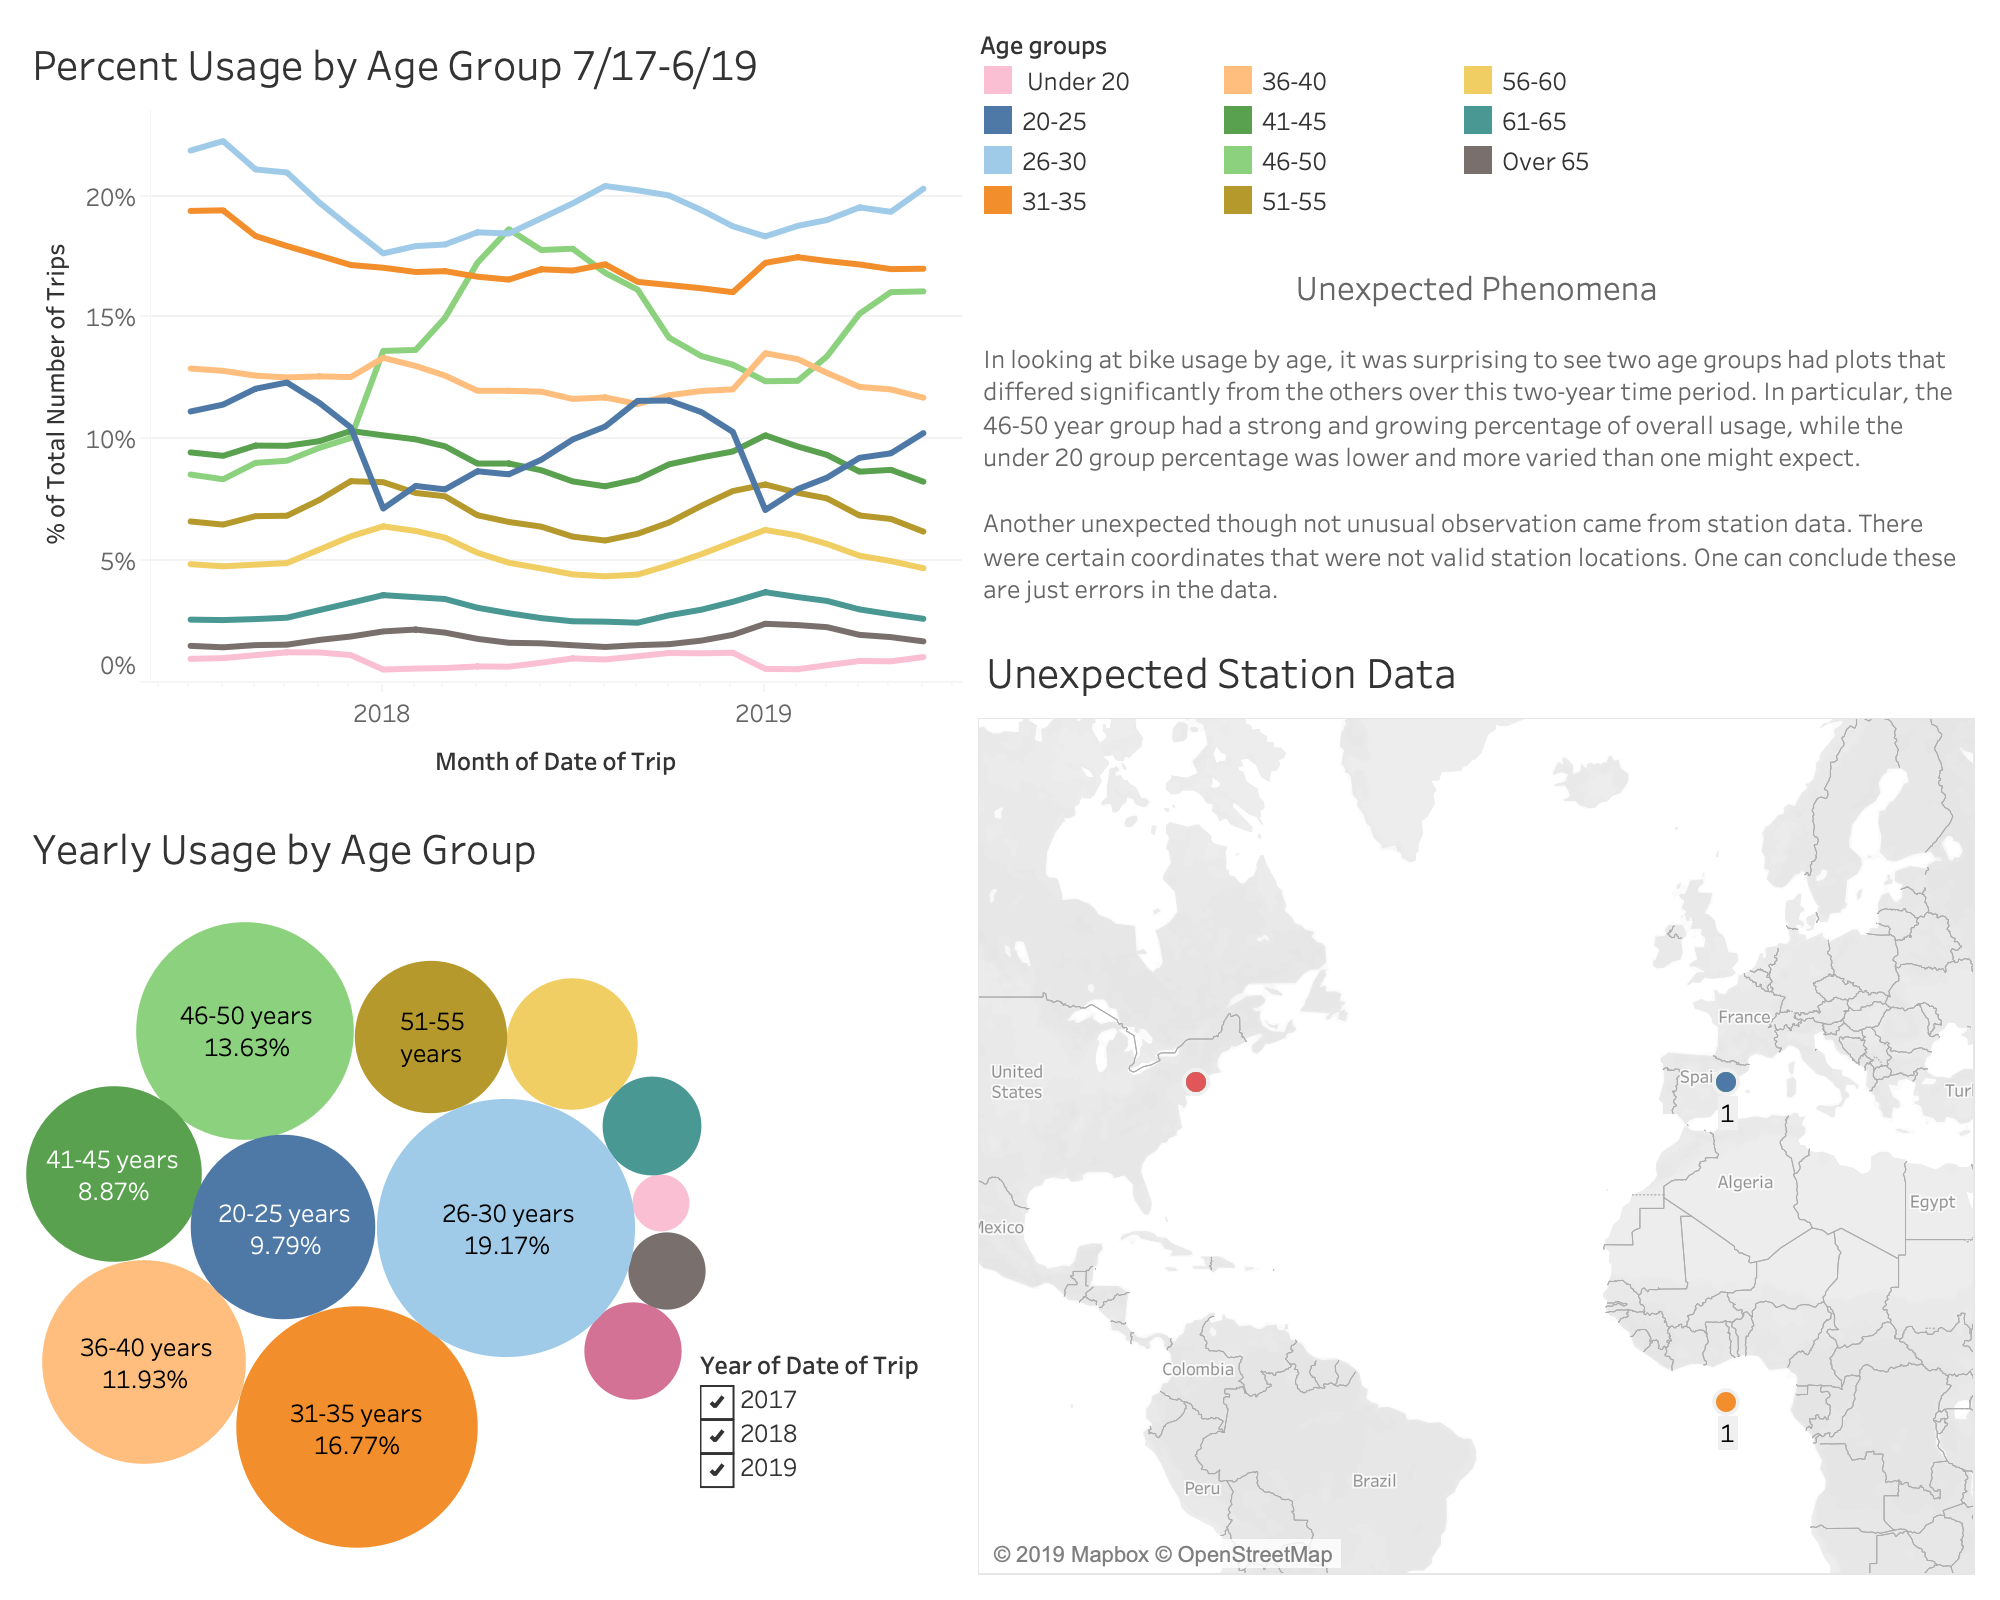

What the dashboard file says about the page in this screenshot:
{"tool":"tableau","page":{"name":"Unexpected Phenomenon","canvas":[1000,800],"ordinal":6},"visuals":[{"type":"worksheet","title":"Percent Usage by Age Group 7/17-6/19","mark":"Automatic","cols":["Calculation_3150901270720638977"],"box":[8,8,477,392]},{"type":"legend","title":"Percent Usage by Age Group 7/17-6/19","param":"[federated.0t5srdd0ehoq8i1a1sapz1f1suxh].[none:Calculation_3150901271112847380:n","box":[485,8,507,120]},{"type":"text","box":[485,128,507,184]},{"type":"worksheet","title":"Unexpected Station Data","mark":"Automatic","rows":["end station latitude"],"cols":["start station longitude"],"box":[485,312,507,480]},{"type":"worksheet","title":"Yearly Usage by Age Group","mark":"Circle","box":[8,400,477,392]},{"type":"filter","title":"Yearly Usage by Age Group","param":"[federated.0t5srdd0ehoq8i1a1sapz1f1suxh].[yr:Calculation_3150901270720638977:ok]","box":[350,673,115,111]}]}

Visuals, with their boxes in screenshot pixels (x1, y1, x2, y2), scaled from the page's 1000x800 canvas onto the 2000x1600 screenshot:
"Percent Usage by Age Group 7/17-6/19" worksheet: <box>16,16,970,800</box>
"Percent Usage by Age Group 7/17-6/19" legend: <box>970,16,1984,256</box>
text: <box>970,256,1984,624</box>
"Unexpected Station Data" worksheet: <box>970,624,1984,1584</box>
"Yearly Usage by Age Group" worksheet (Circle marks): <box>16,800,970,1584</box>
"Yearly Usage by Age Group" filter: <box>700,1346,930,1568</box>
